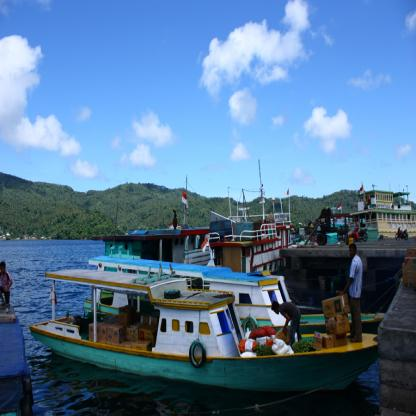fishing boat: (32, 295, 378, 391), (99, 178, 211, 259), (221, 162, 292, 265), (353, 185, 415, 230)
